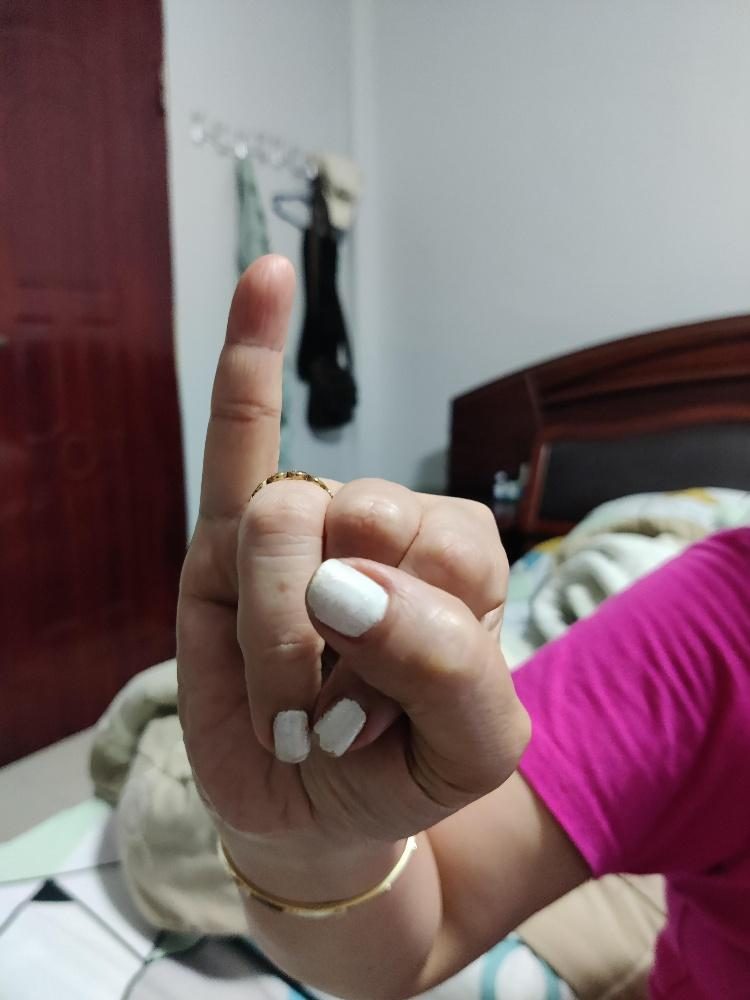i: (173, 250, 534, 848)
